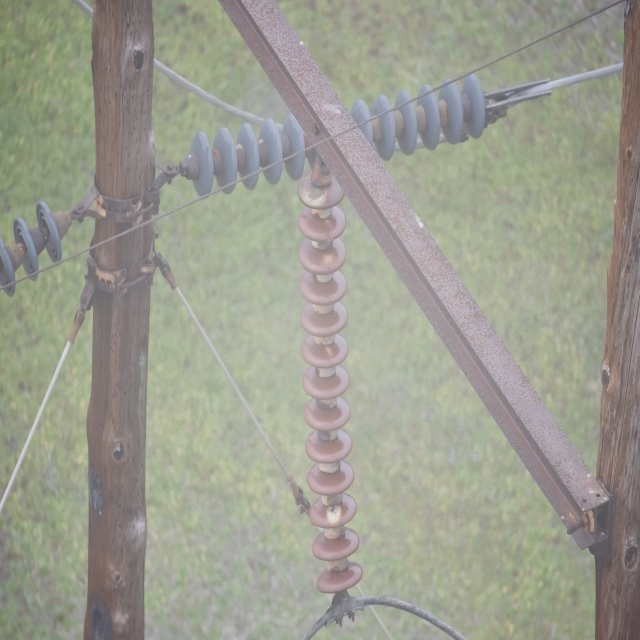insulator: (191, 72, 485, 196), (298, 167, 363, 594), (0, 201, 62, 297)
